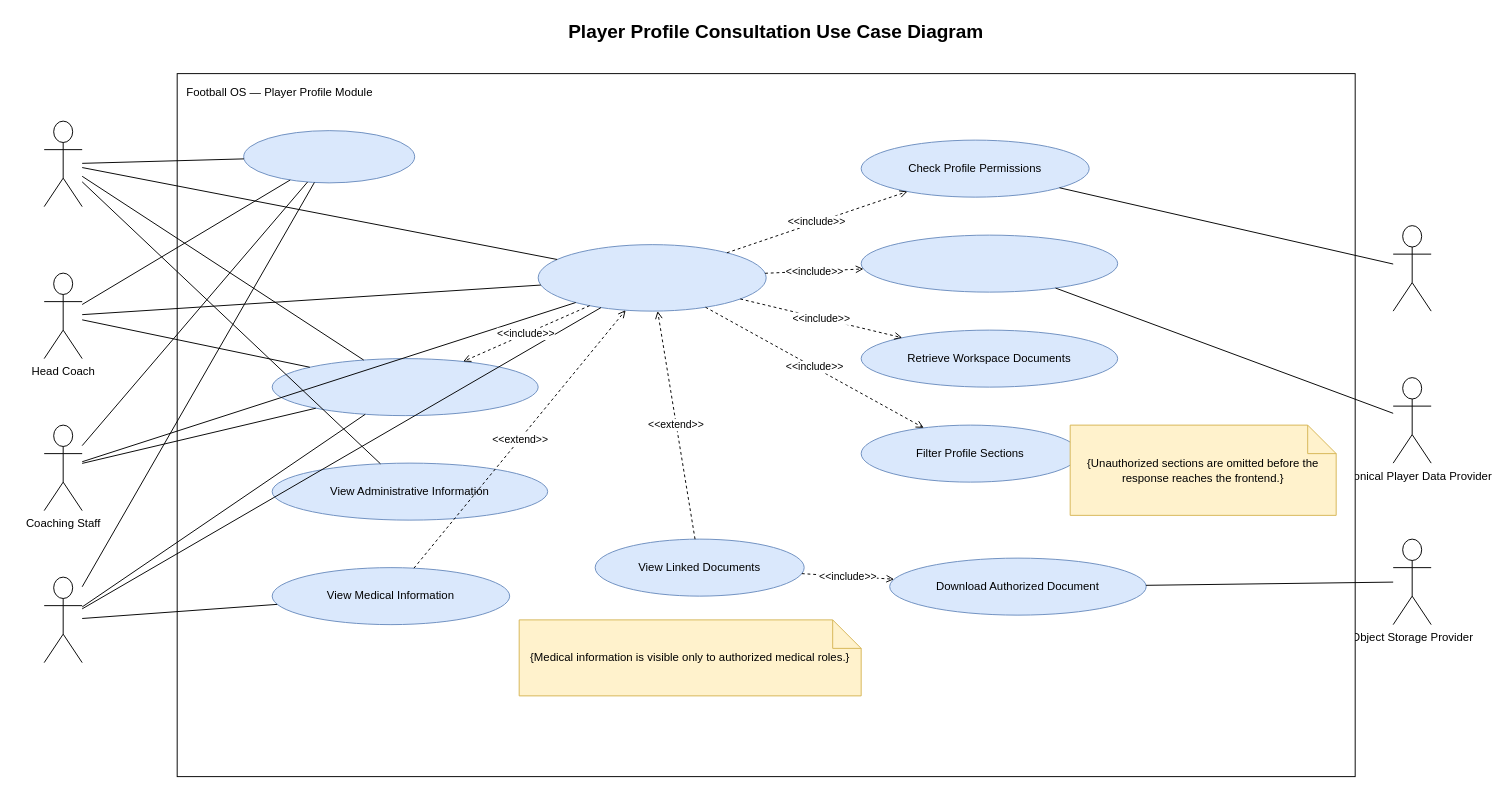
This 1508x793 diagram has some shape labels left out. The centre of each missing label's shape, as x and y in pixels:
"Club Administrator" goes at point (62, 163).
"Consult Player Profile" goes at point (651, 277).
"Governance Policy Service" goes at point (1411, 268).
"Medical Staff" goes at point (62, 619).
"Retrieve Canonical Player Data" goes at point (989, 263).
"Select Player" goes at point (329, 156).
"View General Player Information" goes at point (404, 387).
